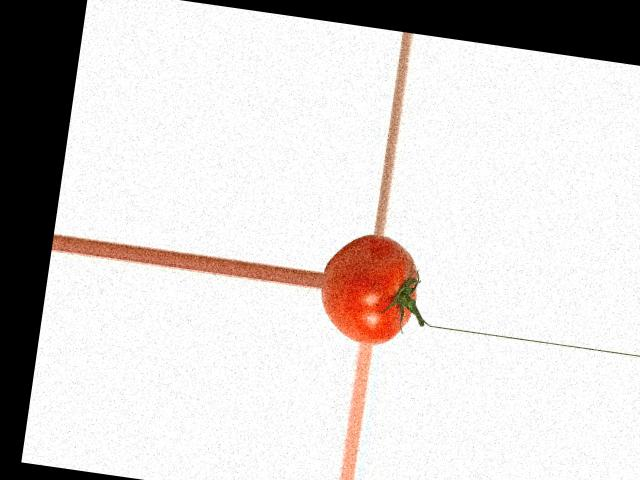tomato: (315, 227, 425, 349)
